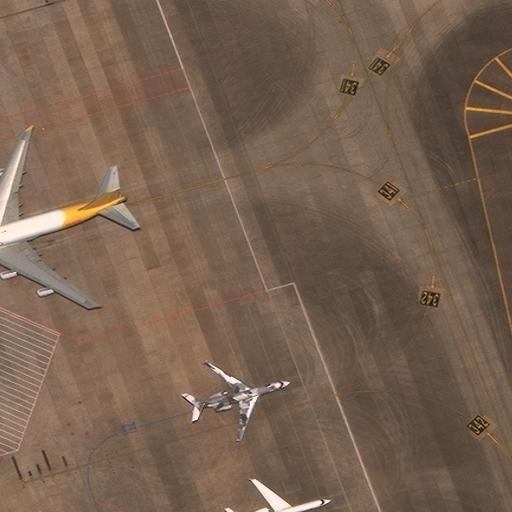Large Civil Transport: (0, 131, 126, 307)
Medium Civil Transport: (191, 359, 290, 441), (238, 478, 329, 511)
